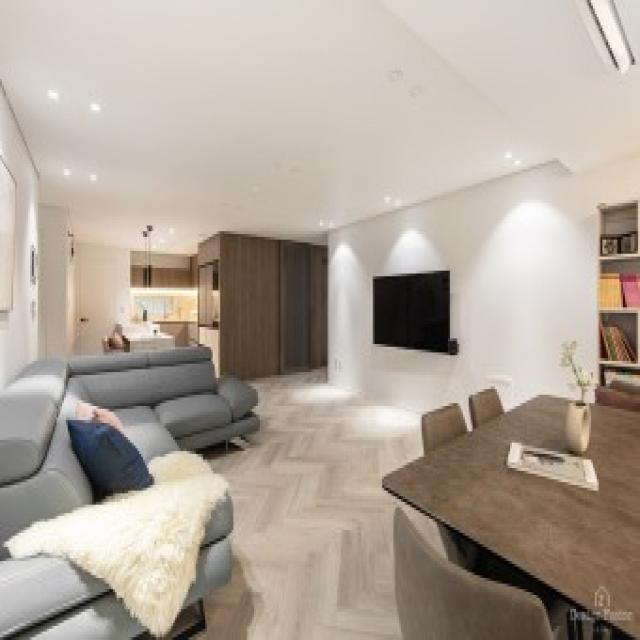Sofa: (2, 338, 254, 630)
Table: (382, 378, 640, 631)
tv: (371, 271, 454, 352)
